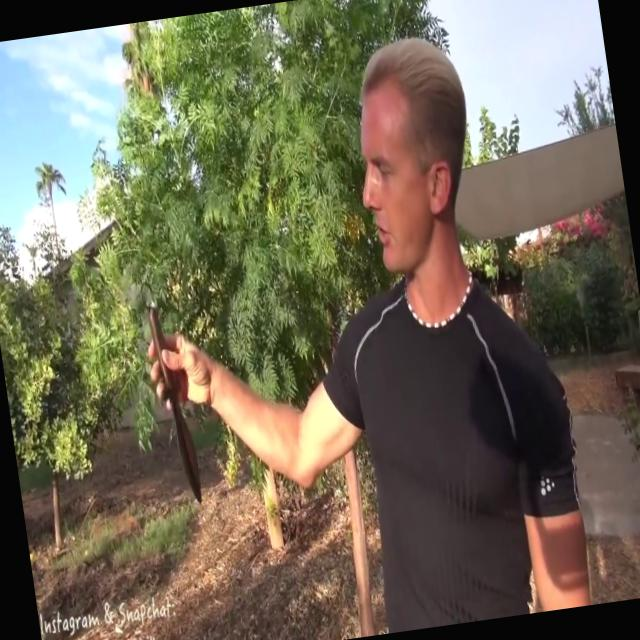knife: (143, 287, 215, 524)
